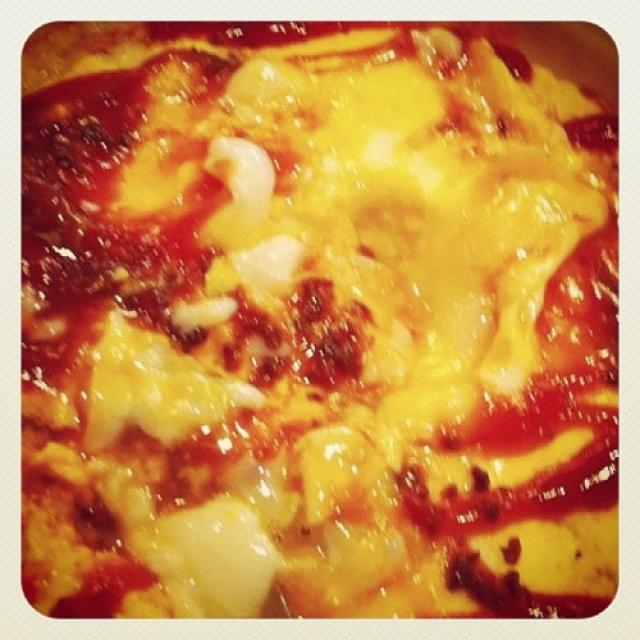米饭主食: (54, 34, 589, 596)
